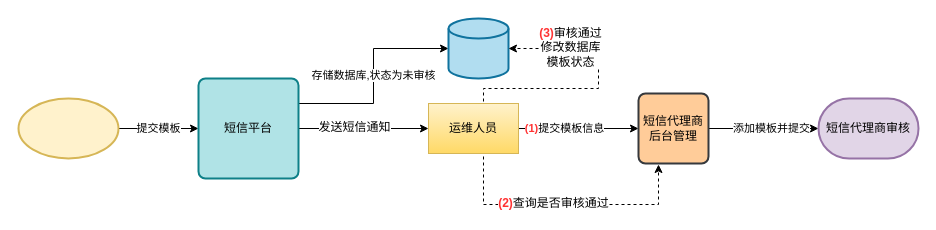
Image size: 936x230. Some labels were removed from this diagram. The shapes that lost their labels are listed below. From the top down, each one's centre as x and y in pixels, then its label:
At point (478, 48): "Mysql".
At point (68, 128): "产品".
